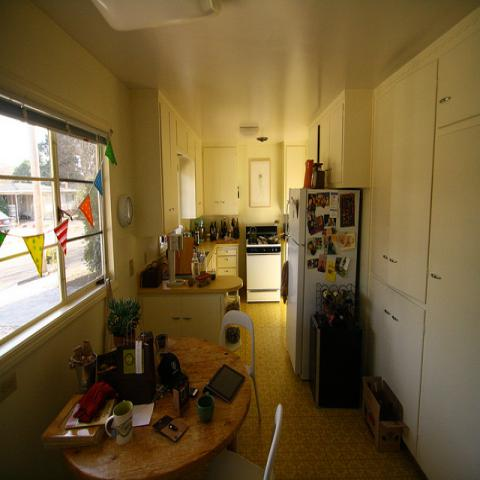car: (0, 211, 15, 234)
